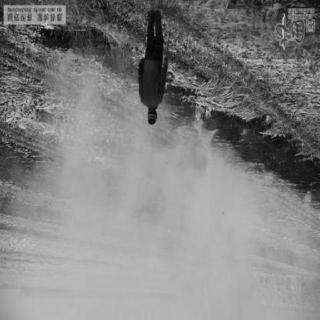Fire: (263, 113, 274, 129)
